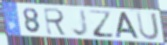8: (22, 7, 42, 34)
A: (115, 12, 140, 40)
J: (70, 9, 90, 38)
R: (43, 7, 69, 37)
U: (135, 12, 161, 42)
Z: (88, 9, 116, 39)
